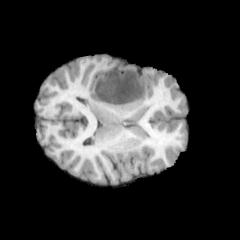glioma: (89, 69, 146, 105)
